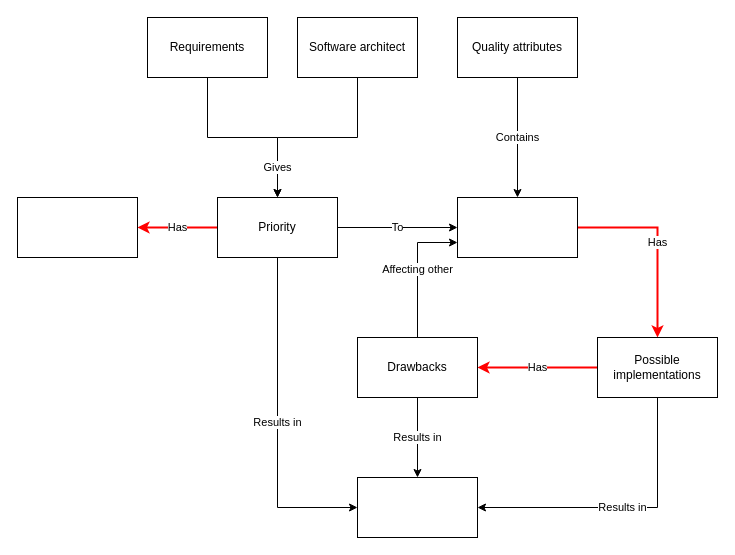
Some shapes in this 735 by 555 pixel diagram are drawn without their labels. Each missing label, with the centre of its shape:
Quality attribute: the point at 517,227
Rational: the point at 77,227
Software architecture: the point at 417,507
